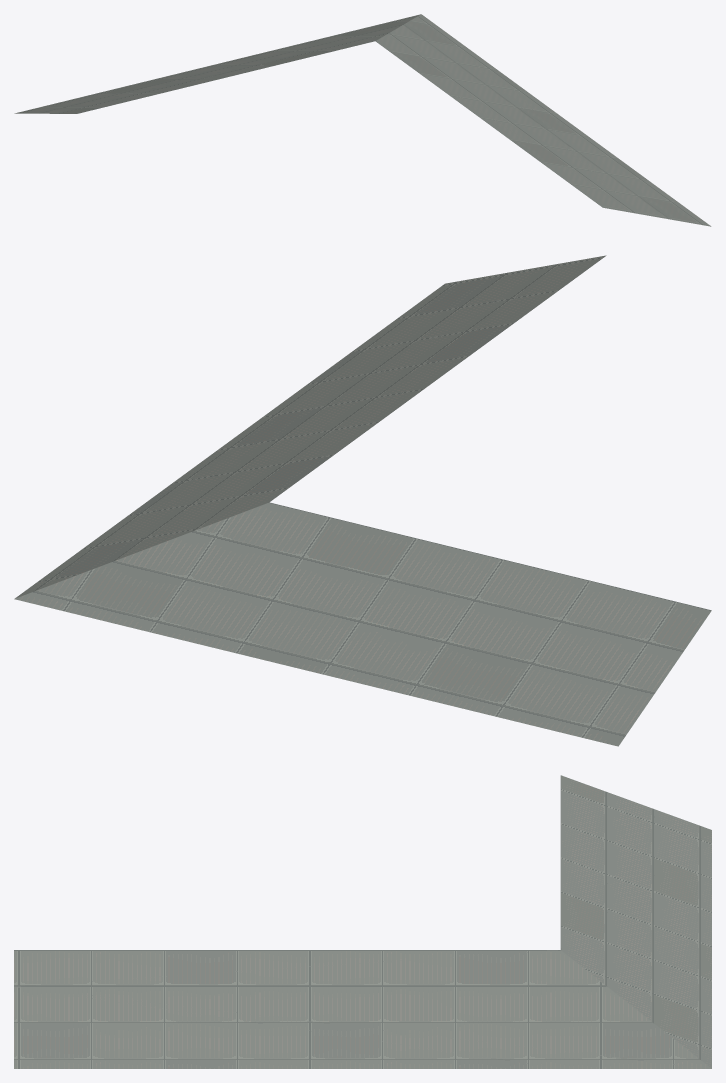
Rendered from kd_stage_135b75_4_93_bounded_piece_4.glb.
3 renders of one model, top to bottom at view 1: azimuth 30°, elevation 25°; view 2: azimuth 150°, elevation 25°; view 3: azimuth 270°, elevation 25°, orthographic. The views are drawn at different scales.
Parts seen in each view (by area): view 1: kd_stage_135b75_4_93_bounded_piece_4; view 2: kd_stage_135b75_4_93_bounded_piece_4; view 3: kd_stage_135b75_4_93_bounded_piece_4.
Boxes of the visible parts, left/top/right/bottom form: kd_stage_135b75_4_93_bounded_piece_4: left=14, top=14, right=711, bottom=226; kd_stage_135b75_4_93_bounded_piece_4: left=14, top=255, right=711, bottom=746; kd_stage_135b75_4_93_bounded_piece_4: left=14, top=775, right=711, bottom=1068.
Bounding box in the file's own units: 3.79 × 0.4059 × 4.68.
Materials: 1 (1 with a texture image).
